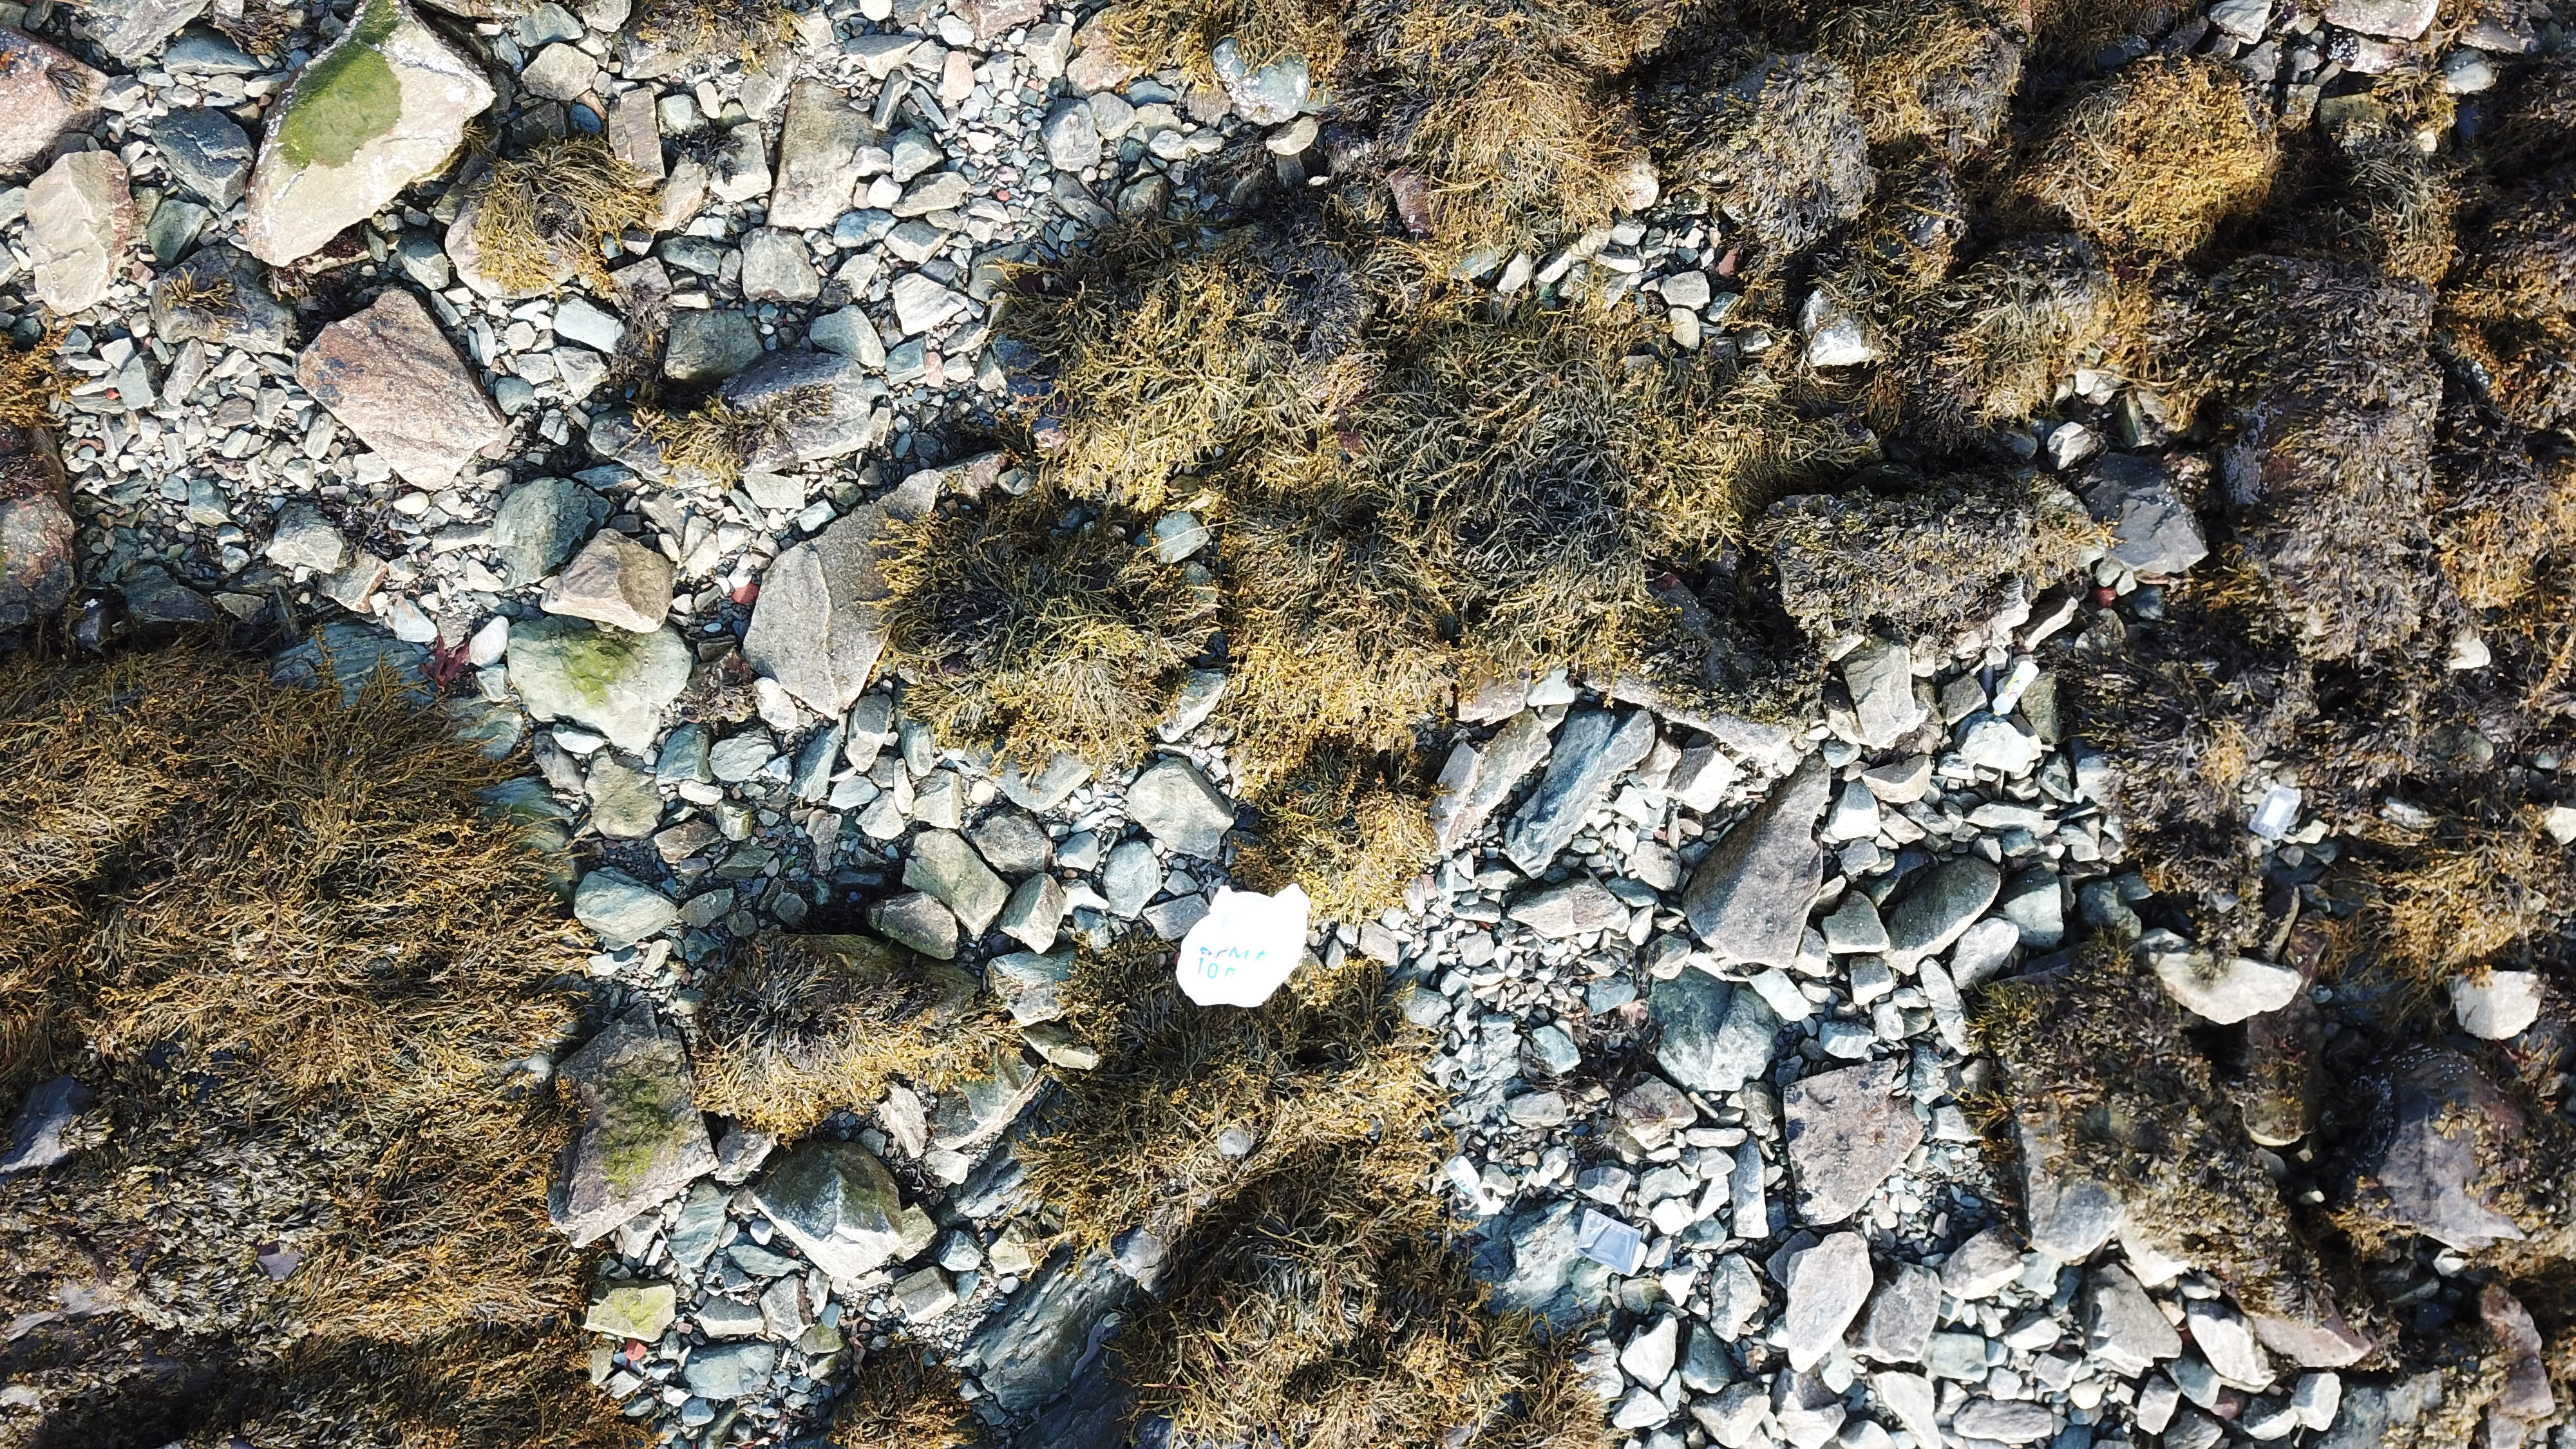Plastic: (1177, 883, 1313, 1008), (1576, 1207, 1640, 1272), (2250, 784, 2304, 840), (1990, 660, 2038, 720)
